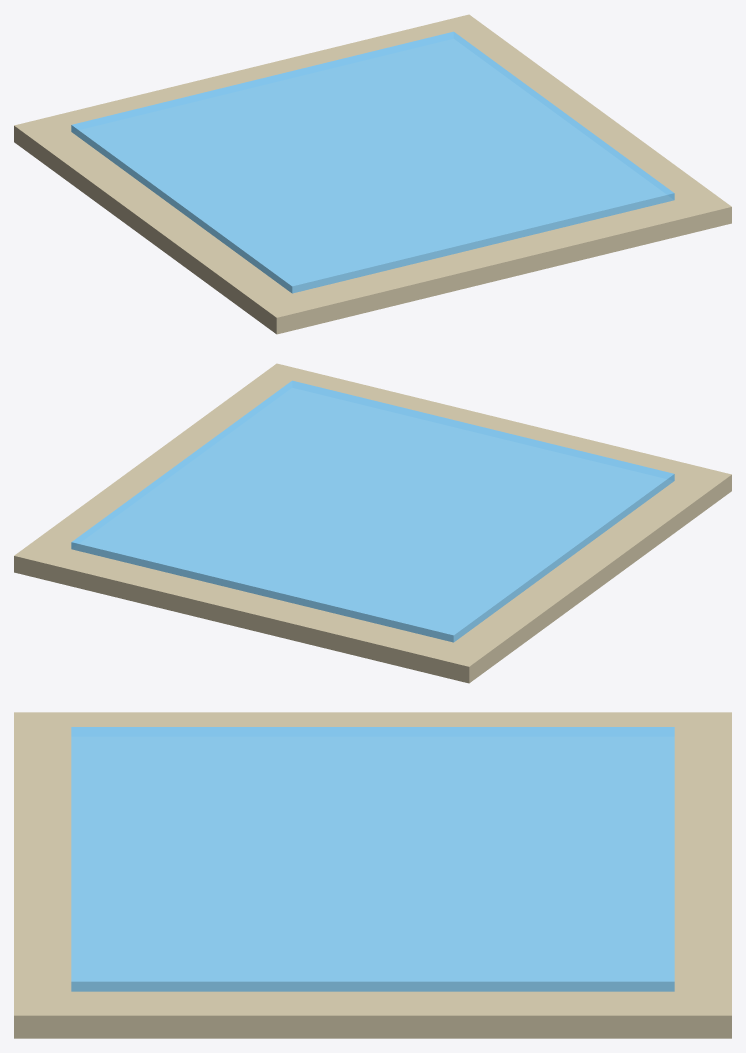
The model's file is craft_dual_Empty.glb.
3 renders of one model, top to bottom at view 1: azimuth 30°, elevation 25°; view 2: azimuth 150°, elevation 25°; view 3: azimuth 270°, elevation 25°, orthographic. The views are drawn at different scales.
Visible parts, largest first — view 1: craft_dual_Empty; view 2: craft_dual_Empty; view 3: craft_dual_Empty.
Boxes of the visible parts, x1,y1,x2,y2 form: craft_dual_Empty: (14,14,731,334); craft_dual_Empty: (14,363,731,683); craft_dual_Empty: (14,712,731,1038).
Bounding box in the file's own units: 1 × 0.05 × 1.
